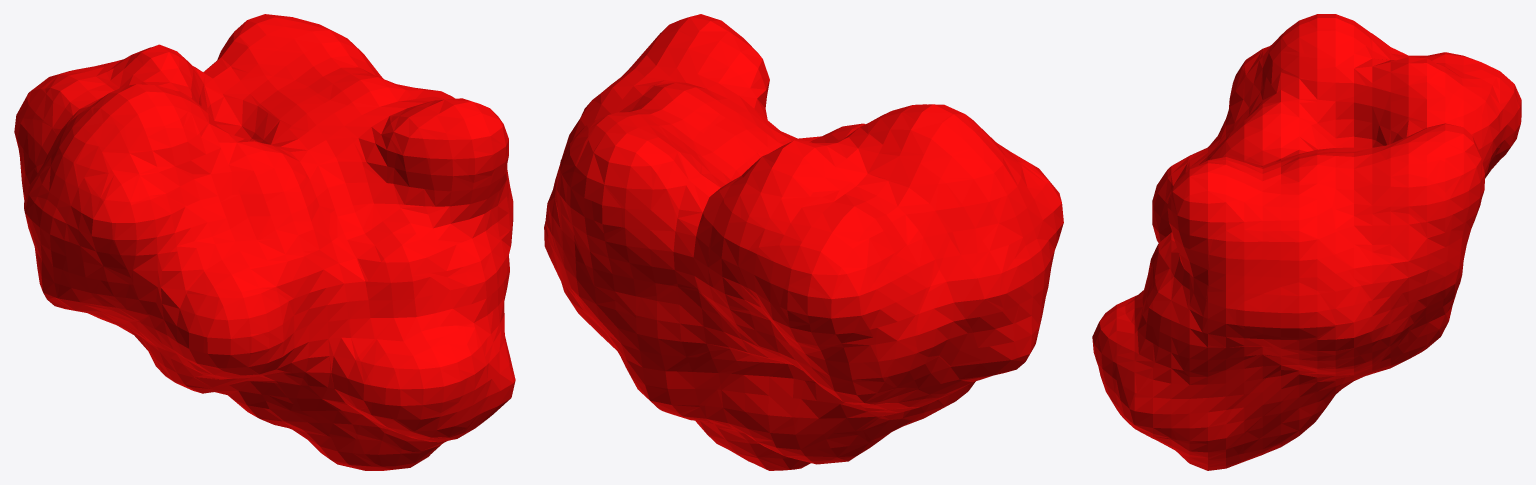
The model's file is glnQ_coarse.dae.
The picture shows the model from 3 angles, left to right: view 1: azimuth 30°, elevation 25°; view 2: azimuth 150°, elevation 25°; view 3: azimuth 270°, elevation 25°; orthographic projection. The views are drawn at different scales.
Parts seen in each view (by area): view 1: glnQ; view 2: glnQ; view 3: glnQ.
Part boxes in pixels (x1,y1,x2,y2): glnQ: (14, 14, 515, 470); glnQ: (544, 14, 1063, 470); glnQ: (1092, 14, 1521, 470).
Bounding box in the file's own units: 55.55 × 47.53 × 51.42.
